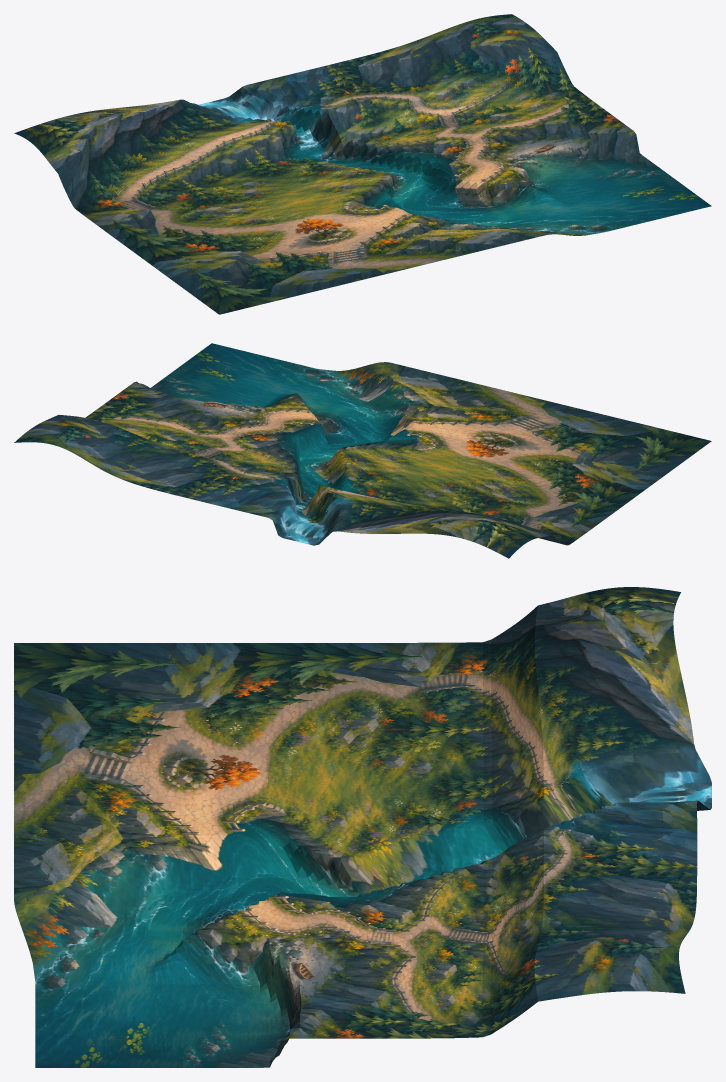
File: valley.glb
The picture shows the model from 3 angles, top to bottom: view 1: azimuth 30°, elevation 25°; view 2: azimuth 150°, elevation 25°; view 3: azimuth 270°, elevation 25°; orthographic projection. The views are drawn at different scales.
Parts seen in each view (by area): view 1: Cliffs_banks_and_riverbed; view 2: Cliffs_banks_and_riverbed; view 3: Cliffs_banks_and_riverbed.
Boxes of the visible parts, box(x1,y1,x2,y2) form: Cliffs_banks_and_riverbed: box(14, 14, 711, 314); Cliffs_banks_and_riverbed: box(14, 343, 711, 558); Cliffs_banks_and_riverbed: box(14, 587, 711, 1067).
Bounding box in the file's own units: 233 × 26.99 × 174.
Materials: 1 (1 with a texture image).
